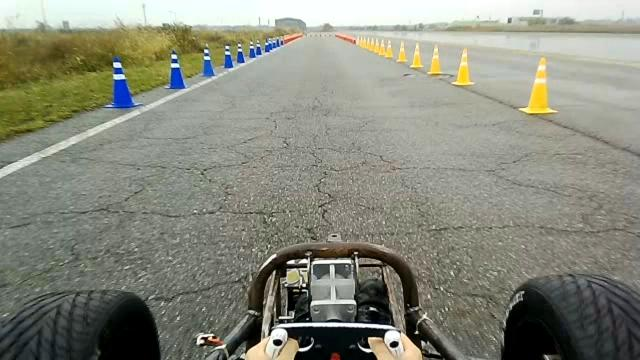blue cone: (103, 56, 143, 108), (164, 49, 186, 89), (200, 46, 216, 77), (223, 44, 234, 68), (236, 42, 245, 63), (248, 40, 256, 58), (255, 39, 263, 56), (264, 40, 272, 52)
yellow cone: (518, 56, 558, 114), (451, 48, 475, 86), (427, 44, 442, 74), (409, 41, 424, 68), (396, 40, 408, 62), (384, 40, 394, 58), (460, 48, 468, 64), (378, 39, 385, 56), (367, 38, 374, 52), (374, 39, 381, 53)
